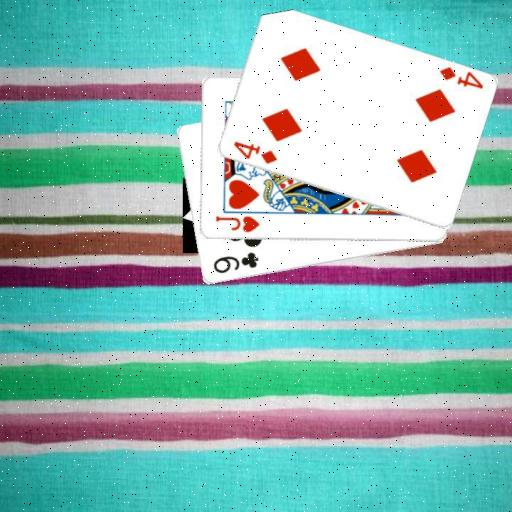4D: (230, 138, 278, 166), (436, 63, 484, 91)
9C: (210, 249, 260, 276)
JH: (213, 214, 261, 234)
